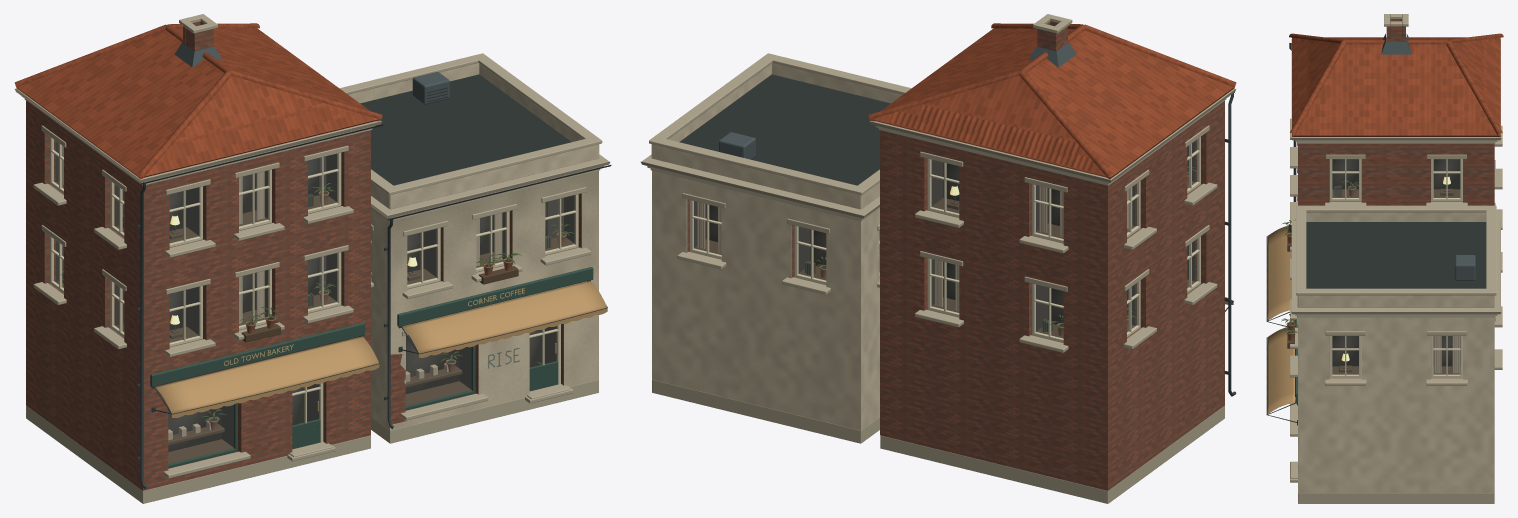
The model's file is gloryland-oldtown.glb.
3 renders of one model, left to right at view 1: azimuth 30°, elevation 25°; view 2: azimuth 150°, elevation 25°; view 3: azimuth 270°, elevation 25°, orthographic. The views are drawn at different scales.
Parts seen in each view (by area): view 1: OldTown_brick_hiproof__fired brick and lime mortar, OldTown_brick_hiproof__terracotta pan tiles, OldTown_plaster_parapet__plaster front with sill runoff, OldTown_brick_hiproof__carved limestone sills and cornice, OldTown_plaster_parapet__carved limestone sills and cornice, OldTown_plaster_parapet__soil and roof membrane, OldTown_brick_hiproof__thin window glass, OldTown_plaster_parapet__lime plaster, OldTown_brick_hiproof__dim warm room plaster, OldTown_brick_hiproof__shop awning canvas, OldTown_plaster_parapet__shop awning canvas, OldTown_plaster_parapet__thin window glass (+13 smaller); view 2: OldTown_brick_hiproof__fired brick and lime mortar, OldTown_plaster_parapet__lime plaster, OldTown_brick_hiproof__terracotta pan tiles, OldTown_brick_hiproof__carved limestone sills and cornice, OldTown_plaster_parapet__soil and roof membrane, OldTown_plaster_parapet__carved limestone sills and cornice, OldTown_brick_hiproof__thin window glass, OldTown_brick_hiproof__painted ivory timber, OldTown_brick_hiproof__dim warm room plaster, OldTown_plaster_parapet__thin window glass, OldTown_plaster_parapet__dim warm room plaster, OldTown_brick_hiproof__dark ironwork and pipes (+4 smaller); view 3: OldTown_plaster_parapet__lime plaster, OldTown_brick_hiproof__terracotta pan tiles, OldTown_plaster_parapet__carved limestone sills and cornice, OldTown_plaster_parapet__soil and roof membrane, OldTown_brick_hiproof__fired brick and lime mortar, OldTown_brick_hiproof__carved limestone sills and cornice, OldTown_brick_hiproof__shop awning canvas, OldTown_plaster_parapet__shop awning canvas, OldTown_plaster_parapet__thin window glass, OldTown_brick_hiproof__thin window glass, OldTown_brick_hiproof__dim warm room plaster, OldTown_plaster_parapet__dim warm room plaster (+7 smaller).
Boxes of the visible parts, x1,y1,x2,y2 form: OldTown_brick_hiproof__fired brick and lime mortar: [26, 21, 370, 490]; OldTown_brick_hiproof__terracotta pan tiles: [14, 23, 382, 179]; OldTown_plaster_parapet__plaster front with sill runoff: [389, 170, 598, 430]; OldTown_brick_hiproof__carved limestone sills and cornice: [15, 14, 382, 503]; OldTown_plaster_parapet__carved limestone sills and cornice: [340, 53, 610, 443]; OldTown_plaster_parapet__soil and roof membrane: [360, 74, 571, 363]; OldTown_brick_hiproof__thin window glass: [55, 141, 336, 463]; OldTown_plaster_parapet__lime plaster: [348, 63, 599, 429]; OldTown_brick_hiproof__dim warm room plaster: [54, 141, 336, 451]; OldTown_brick_hiproof__shop awning canvas: [155, 336, 379, 417]; OldTown_plaster_parapet__shop awning canvas: [402, 281, 607, 357]; OldTown_plaster_parapet__thin window glass: [406, 196, 573, 405]; OldTown_brick_hiproof__fired brick and lime mortar: [880, 21, 1224, 490]; OldTown_plaster_parapet__lime plaster: [651, 63, 902, 430]; OldTown_brick_hiproof__terracotta pan tiles: [868, 23, 1236, 178]; OldTown_brick_hiproof__carved limestone sills and cornice: [868, 14, 1235, 503]; OldTown_plaster_parapet__soil and roof membrane: [679, 74, 890, 268]; OldTown_plaster_parapet__carved limestone sills and cornice: [641, 53, 911, 443]; OldTown_brick_hiproof__thin window glass: [932, 140, 1196, 337]; OldTown_brick_hiproof__painted ivory timber: [927, 137, 1200, 342]; OldTown_brick_hiproof__dim warm room plaster: [931, 141, 1195, 331]; OldTown_plaster_parapet__thin window glass: [694, 202, 825, 279]; OldTown_plaster_parapet__dim warm room plaster: [694, 201, 879, 272]; OldTown_brick_hiproof__dark ironwork and pipes: [954, 92, 1236, 396]; OldTown_plaster_parapet__lime plaster: [1297, 212, 1494, 492]; OldTown_brick_hiproof__terracotta pan tiles: [1289, 33, 1503, 137]; OldTown_plaster_parapet__carved limestone sills and cornice: [1290, 205, 1502, 503]; OldTown_plaster_parapet__soil and roof membrane: [1288, 222, 1486, 333]; OldTown_brick_hiproof__fired brick and lime mortar: [1298, 19, 1494, 205]; OldTown_brick_hiproof__carved limestone sills and cornice: [1290, 14, 1502, 321]; OldTown_brick_hiproof__shop awning canvas: [1266, 226, 1291, 320]; OldTown_plaster_parapet__shop awning canvas: [1266, 327, 1294, 414]; OldTown_plaster_parapet__thin window glass: [1333, 336, 1459, 373]; OldTown_brick_hiproof__thin window glass: [1333, 160, 1459, 197]; OldTown_brick_hiproof__dim warm room plaster: [1332, 159, 1460, 189]; OldTown_plaster_parapet__dim warm room plaster: [1332, 336, 1460, 366].
Size of the model in its own units: 14.94 by 12.41 by 7.73.
20 materials, 5 textured.
